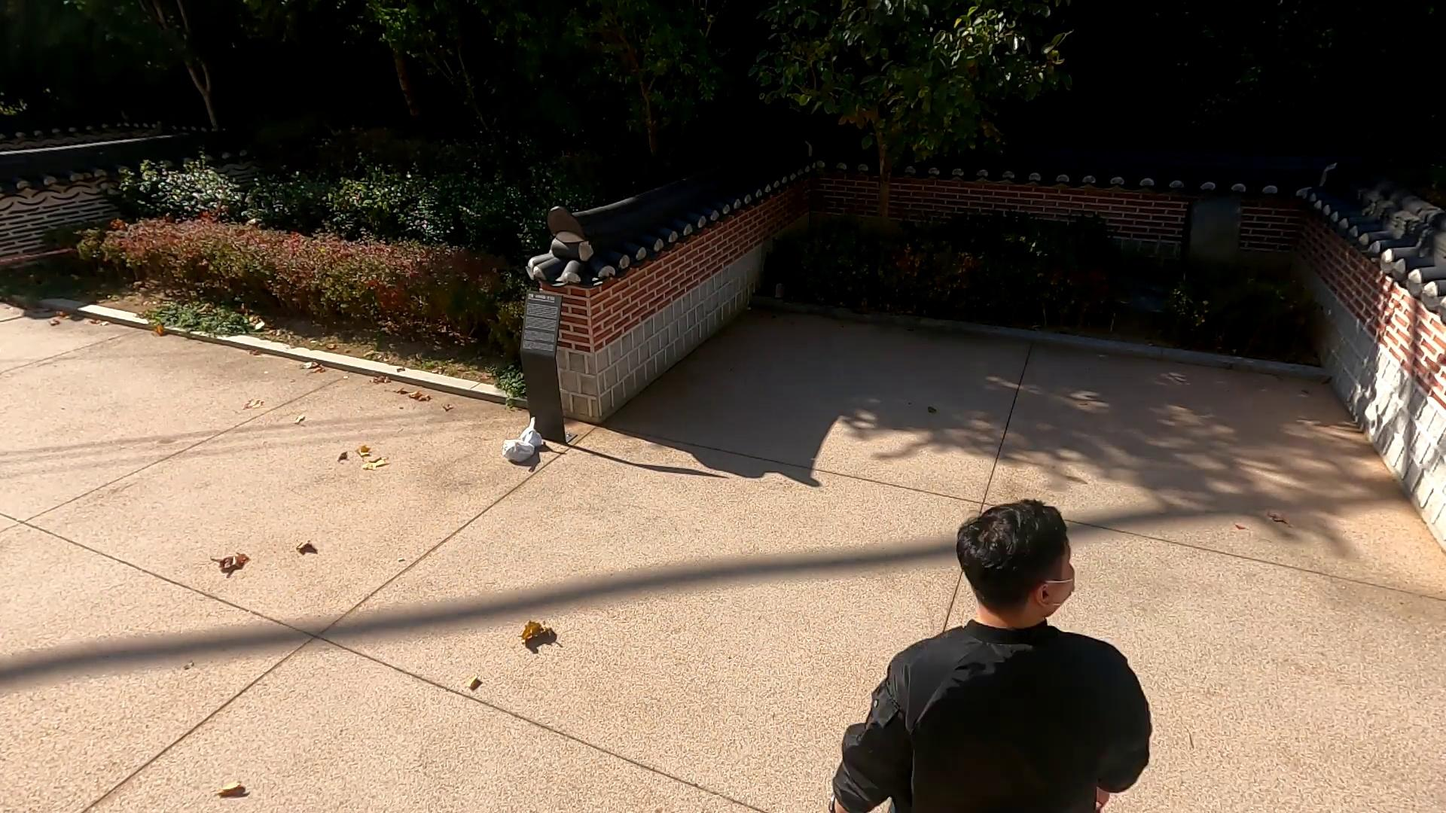person: (820, 499, 1174, 813)
trash: (518, 419, 546, 458), (503, 433, 536, 466)
